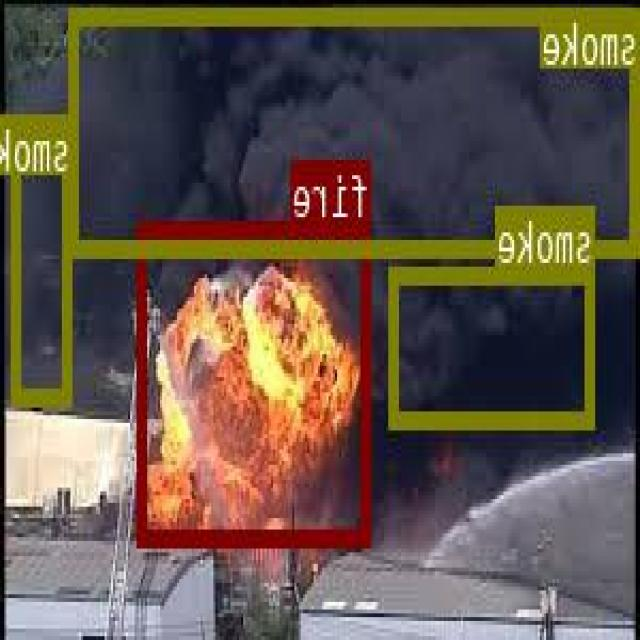fire: (140, 219, 372, 544)
smoke: (70, 6, 640, 253), (392, 266, 596, 424), (13, 111, 74, 402)
